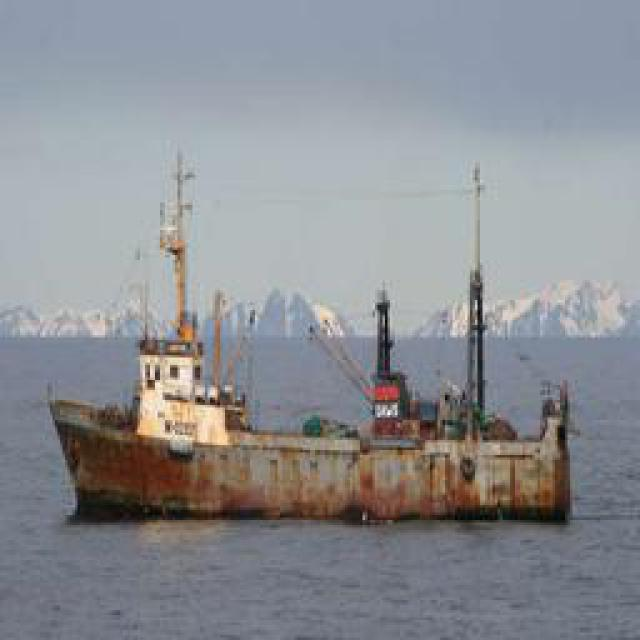Ship: (51, 133, 574, 528)
